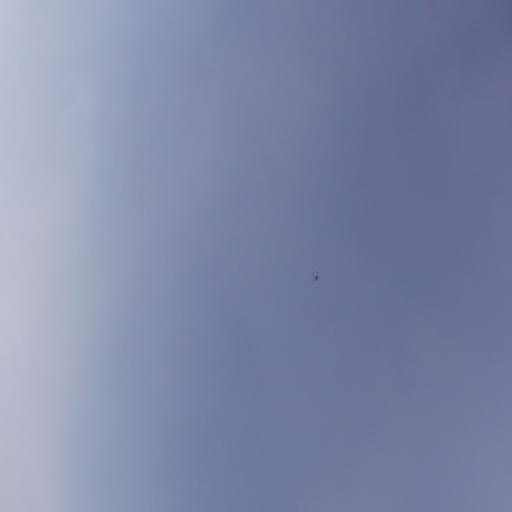drones: (311, 268, 322, 286)
